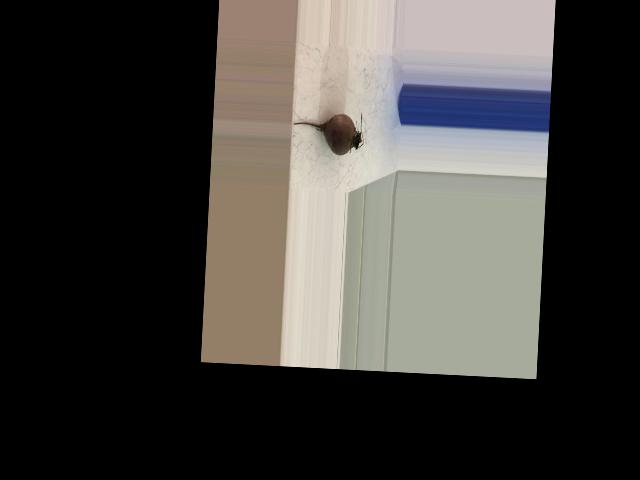beet: (291, 108, 365, 155)
